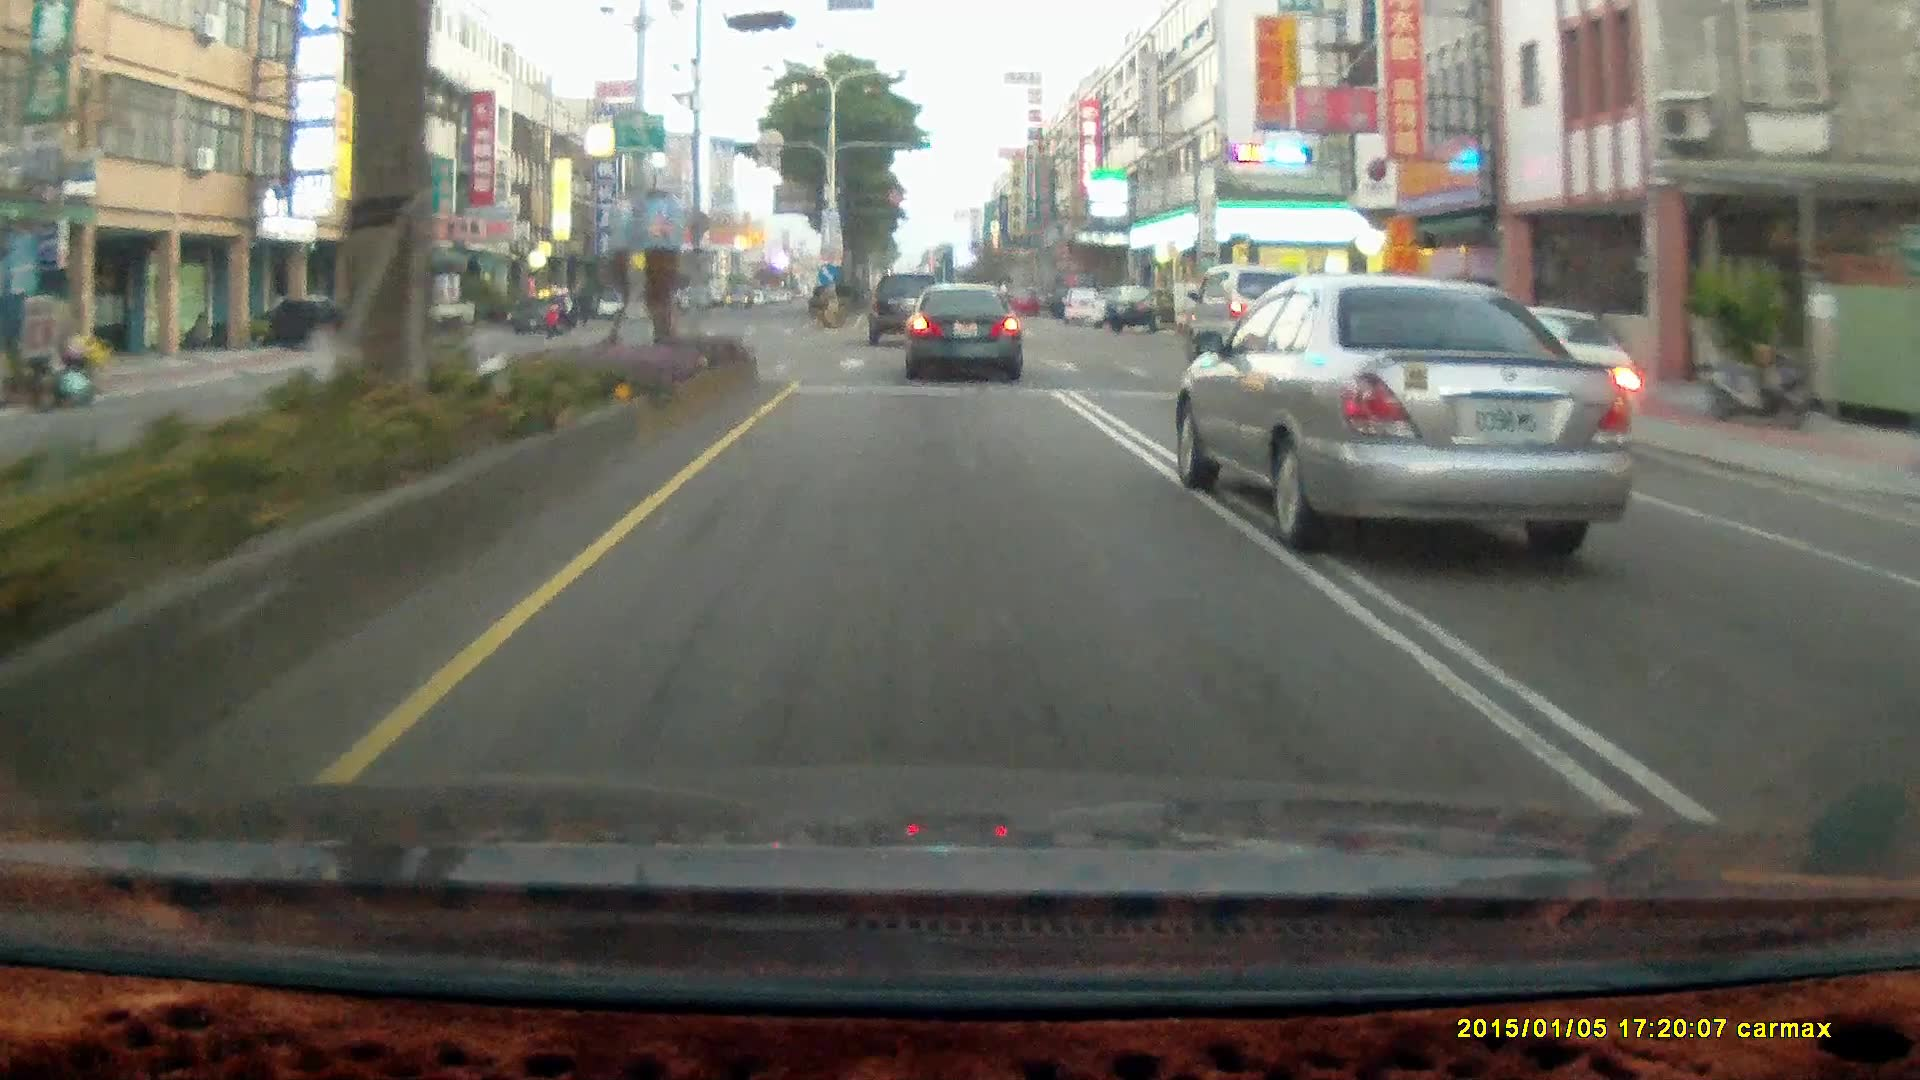rider: (544, 289, 572, 335)
vehicle: (1176, 274, 1650, 557), (1182, 262, 1308, 361), (903, 284, 1029, 383), (1186, 267, 1312, 361), (902, 283, 1022, 378), (222, 297, 368, 349), (251, 297, 376, 356), (372, 287, 479, 345), (867, 271, 945, 349), (868, 271, 944, 344), (1102, 286, 1186, 330), (1102, 285, 1160, 330), (509, 298, 567, 332), (1058, 285, 1105, 324), (603, 294, 639, 320)
